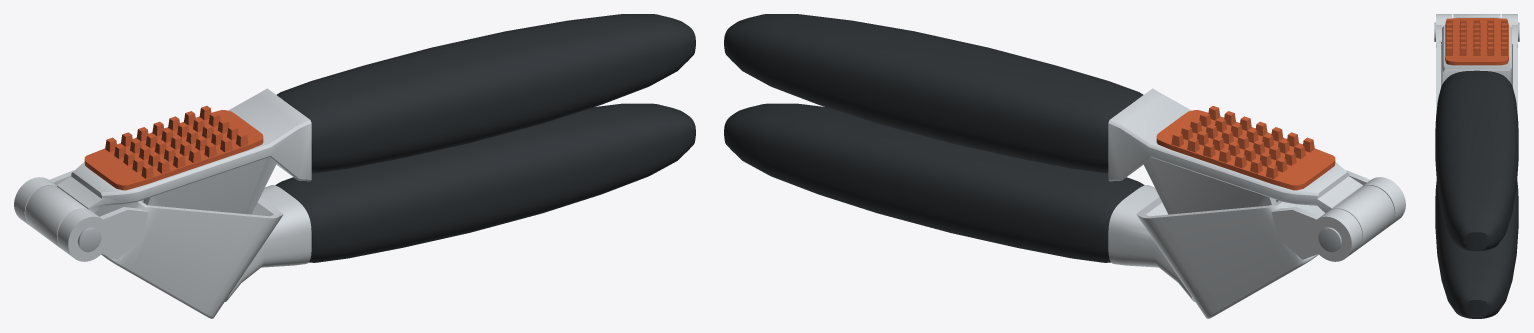
The picture shows the model from 3 angles, left to right: view 1: azimuth 30°, elevation 25°; view 2: azimuth 150°, elevation 25°; view 3: azimuth 270°, elevation 25°; orthographic projection. The views are drawn at different scales.
Parts seen in each view (by area): view 1: Upper grip sleeve, Lower grip sleeve, Chamber arm, Plunger arm, Cleaner plate and pegs; view 2: Upper grip sleeve, Lower grip sleeve, Chamber arm, Plunger arm, Cleaner plate and pegs; view 3: Upper grip sleeve, Lower grip sleeve, Cleaner plate and pegs, Chamber arm, Plunger arm, Pivot pin.
Part boxes in pixels (x1,y1,x2,y2): Upper grip sleeve: (276, 14, 695, 173); Lower grip sleeve: (275, 103, 695, 262); Chamber arm: (14, 170, 311, 318); Plunger arm: (25, 88, 311, 248); Cleaner plate and pegs: (84, 106, 263, 190); Upper grip sleeve: (724, 14, 1143, 173); Lower grip sleeve: (724, 103, 1144, 262); Chamber arm: (1108, 170, 1405, 318); Plunger arm: (1108, 88, 1394, 248); Cleaner plate and pegs: (1156, 106, 1335, 190); Upper grip sleeve: (1435, 70, 1518, 251); Lower grip sleeve: (1435, 181, 1518, 318); Cleaner plate and pegs: (1445, 18, 1508, 65); Chamber arm: (1436, 14, 1517, 116); Plunger arm: (1442, 14, 1511, 83); Pivot pin: (1434, 22, 1519, 41).
Bounding box in the file's own units: 0.185 × 0.05 × 0.028.
